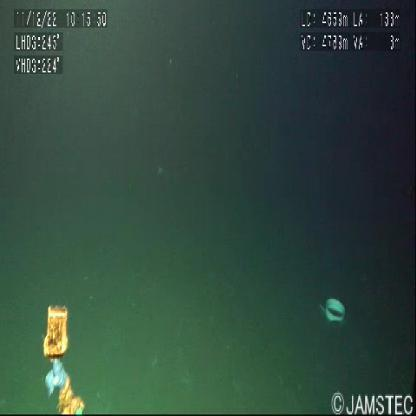Rác: (314, 299, 346, 336)
